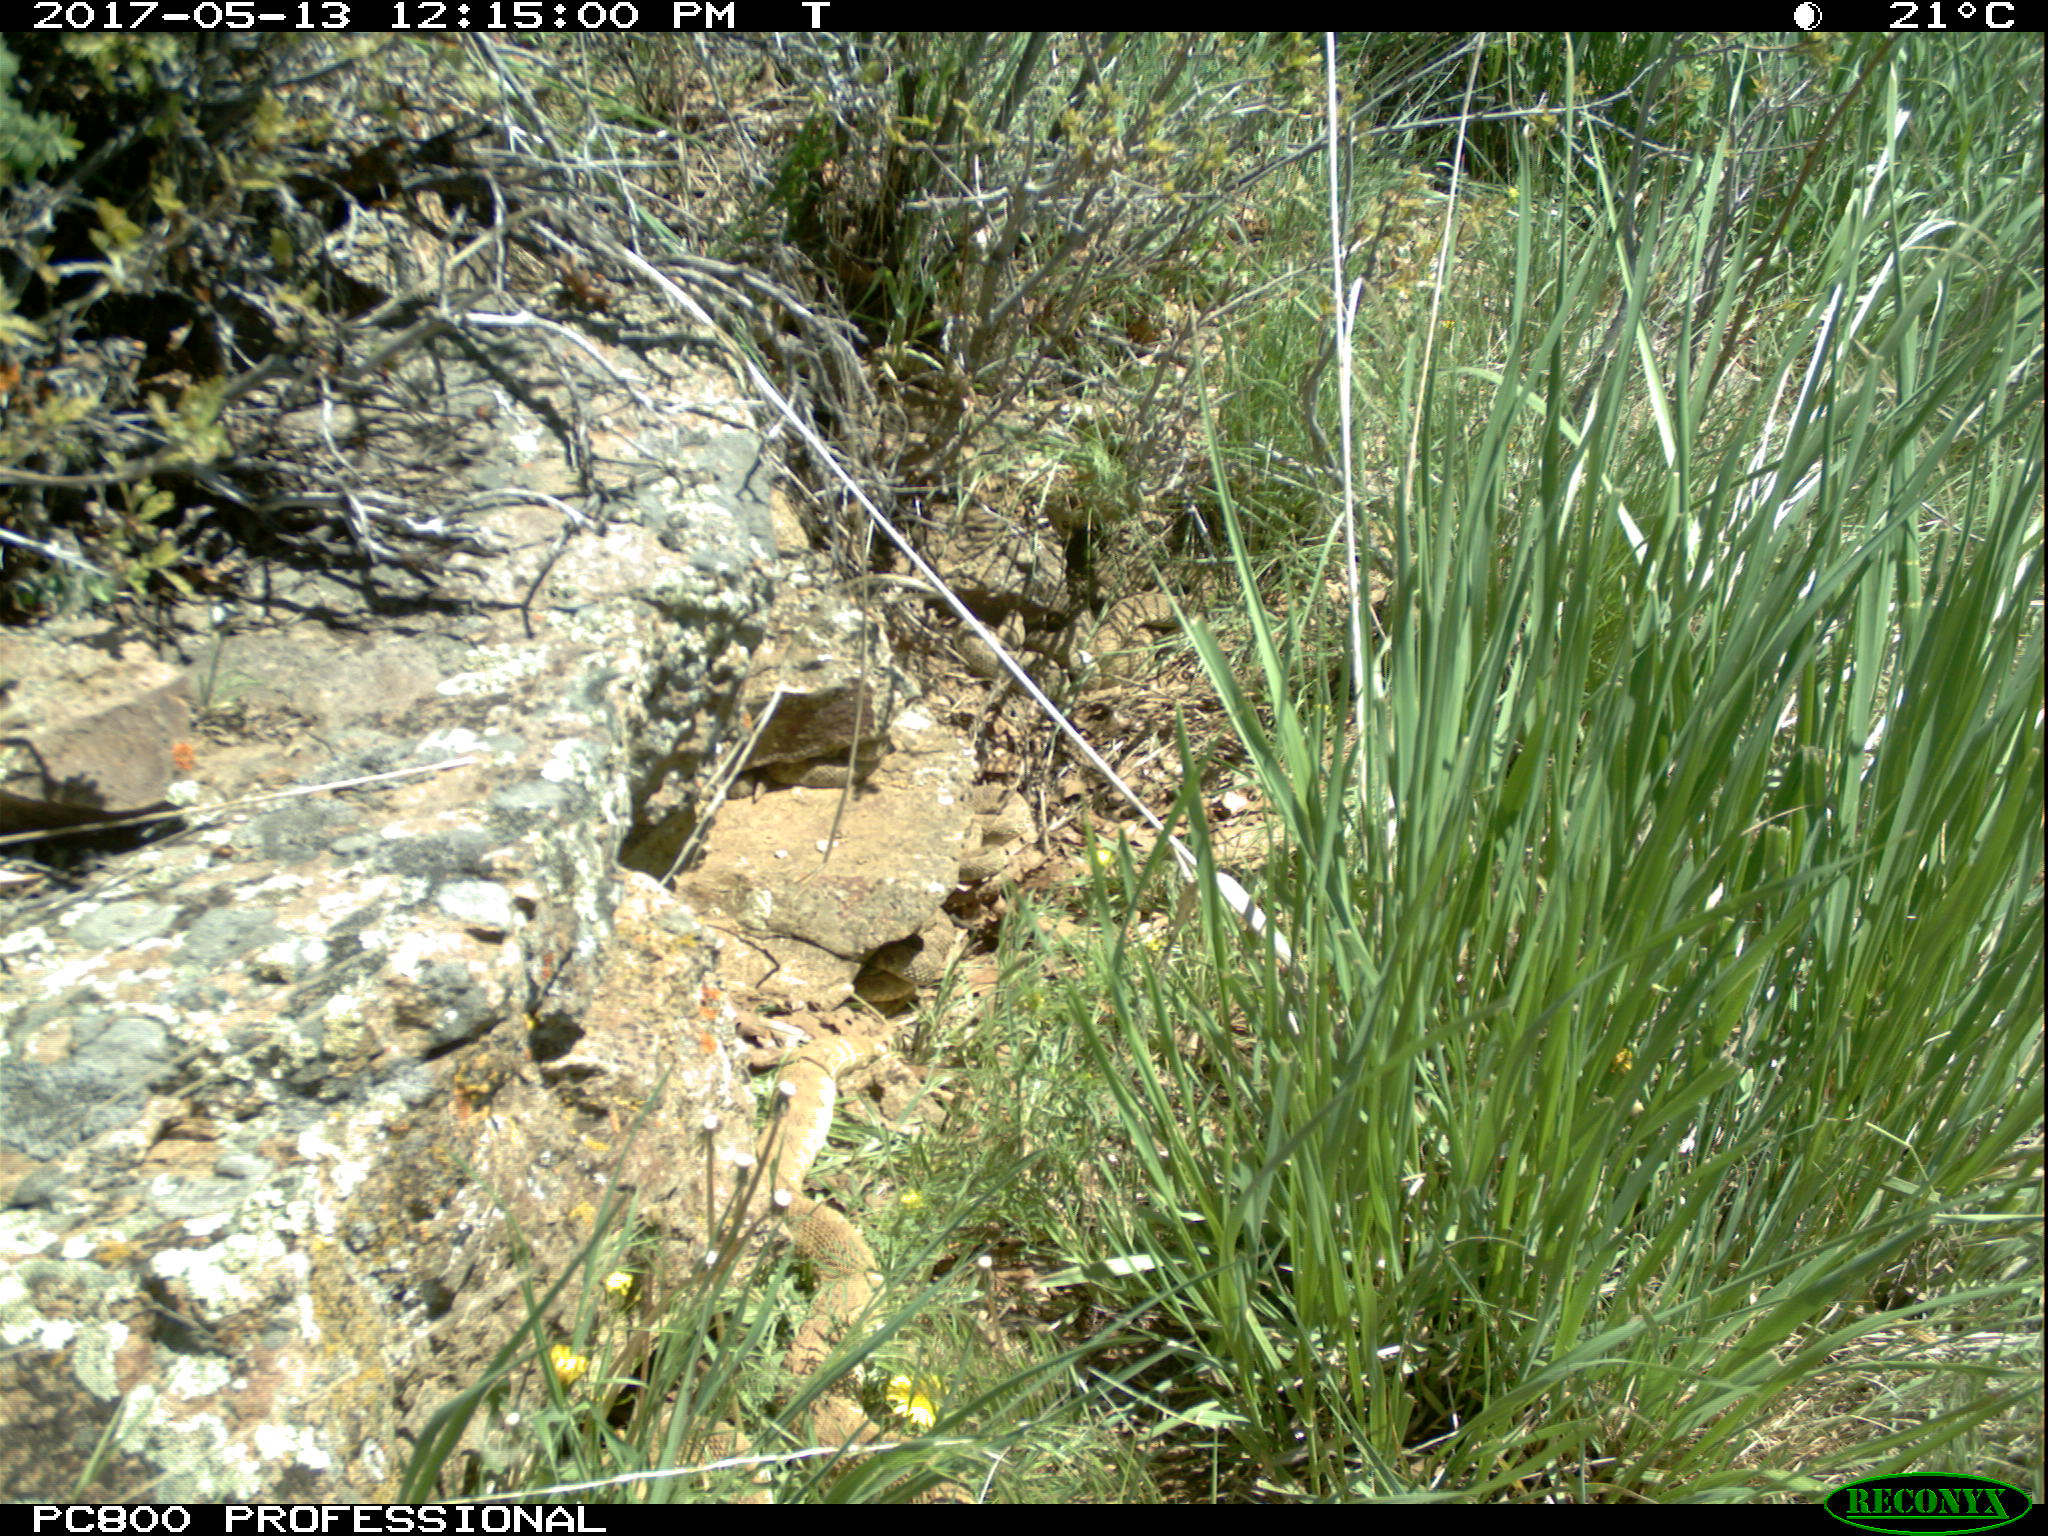snake: (748, 1034, 900, 1467), (1069, 589, 1200, 681), (947, 607, 1063, 691)
